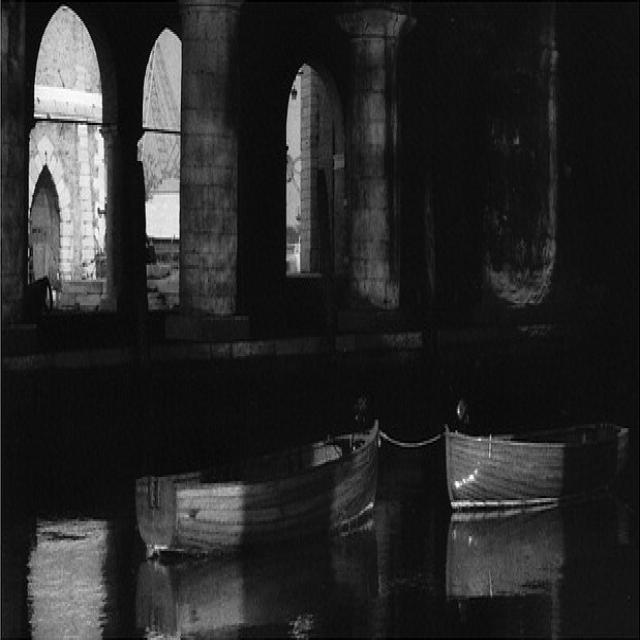Boat: (120, 394, 410, 597), (445, 381, 640, 540)
